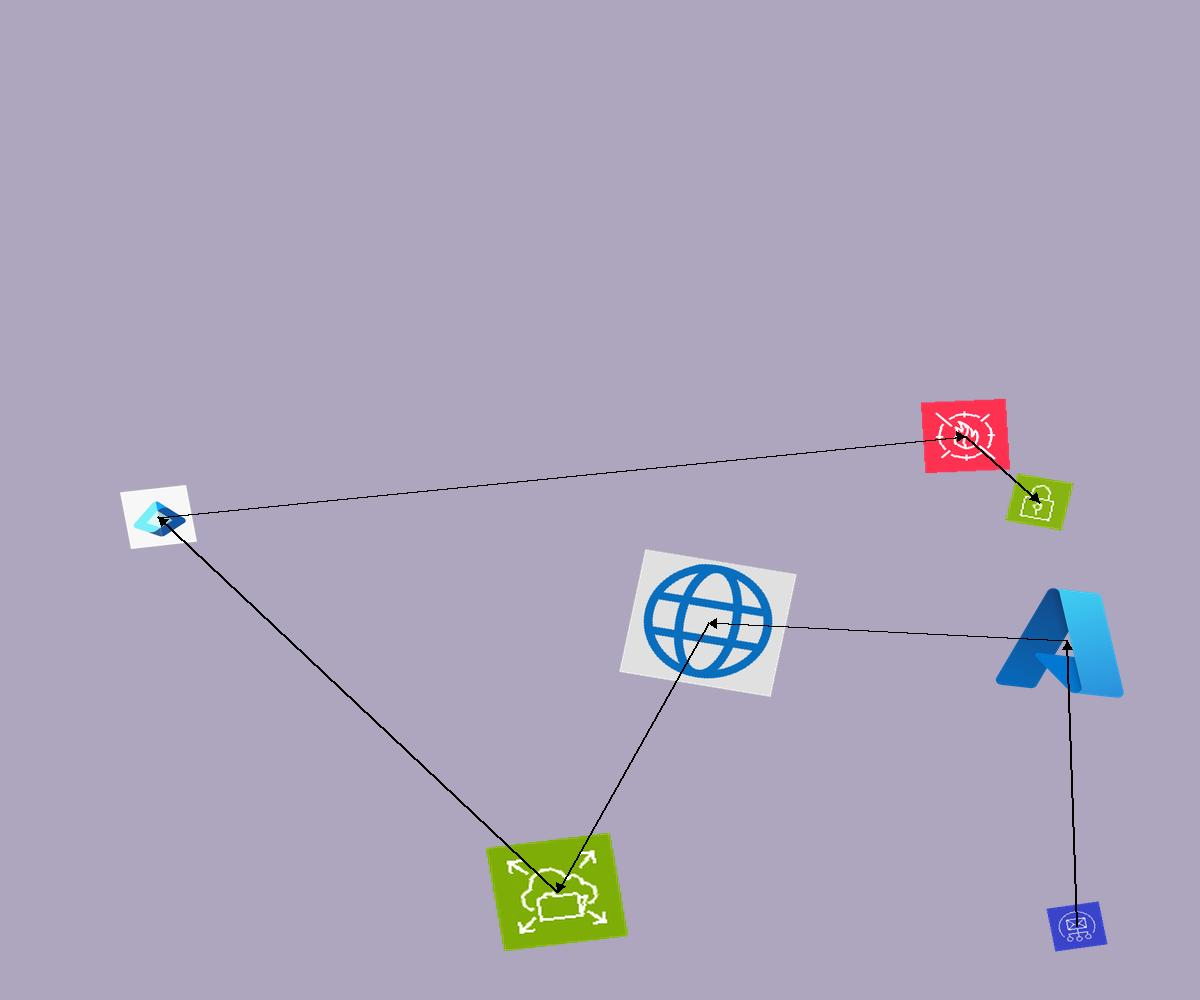AWS-EFS: (485, 832, 629, 952)
AWS-Public-subnet: (1005, 473, 1074, 531)
AWS-Simple-Email-Service: (1046, 901, 1108, 952)
AWS-WAF: (920, 398, 1011, 474)
Azure_http: (619, 549, 797, 697)
Azure_microsoft_entra: (120, 485, 197, 549)
Azure_services: (988, 575, 1146, 707)
